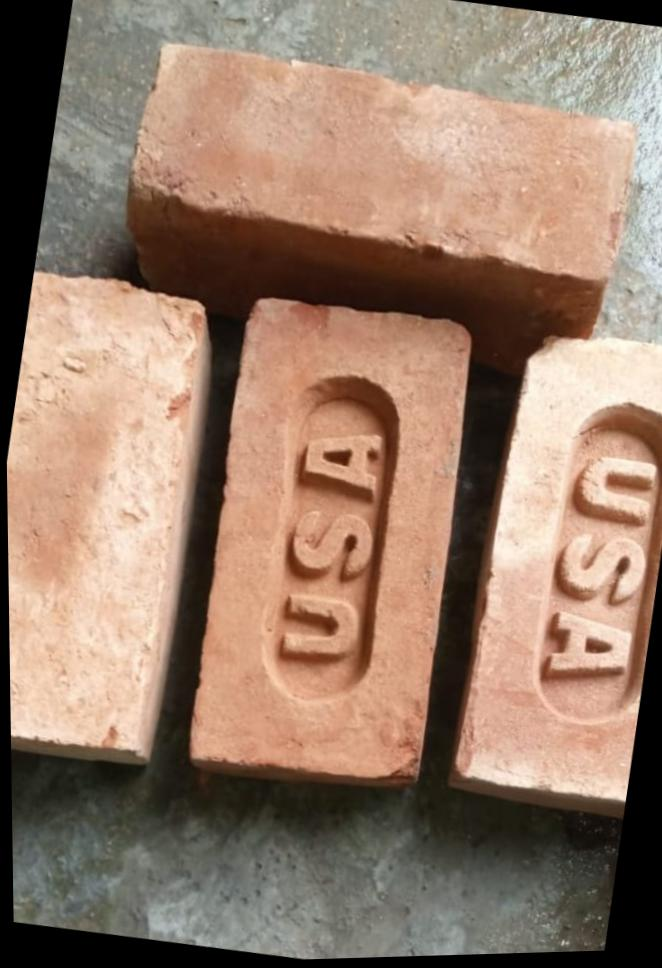brick: (180, 291, 485, 795), (126, 23, 641, 292), (443, 318, 662, 810), (4, 271, 213, 759)
